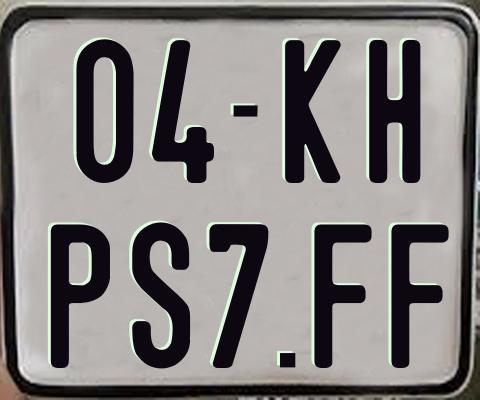0: (74, 36, 134, 181)
4: (149, 38, 212, 182)
7: (209, 223, 274, 373)
F: (313, 223, 376, 372), (388, 224, 451, 368)
H: (369, 38, 424, 184)
K: (283, 40, 342, 189)
P: (51, 222, 116, 368)
S: (132, 220, 196, 373)
